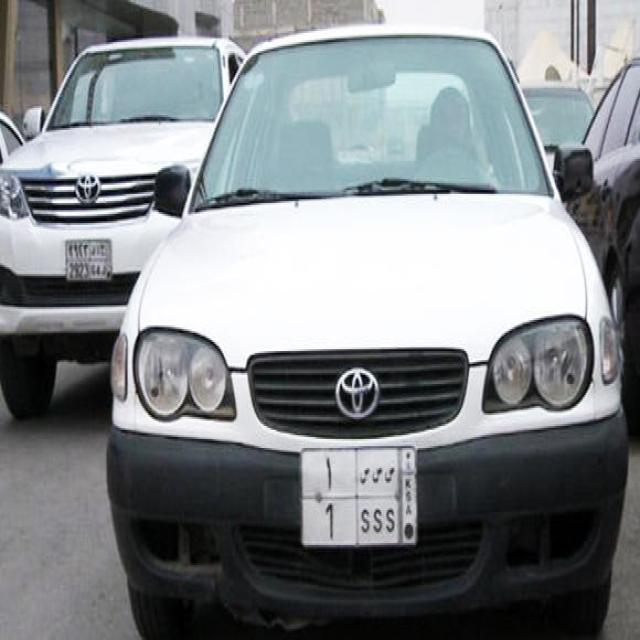license_plate: (299, 442, 420, 550), (63, 234, 114, 285)
